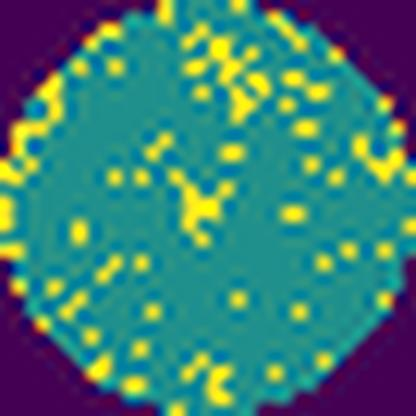Center: (166, 168, 240, 256)
